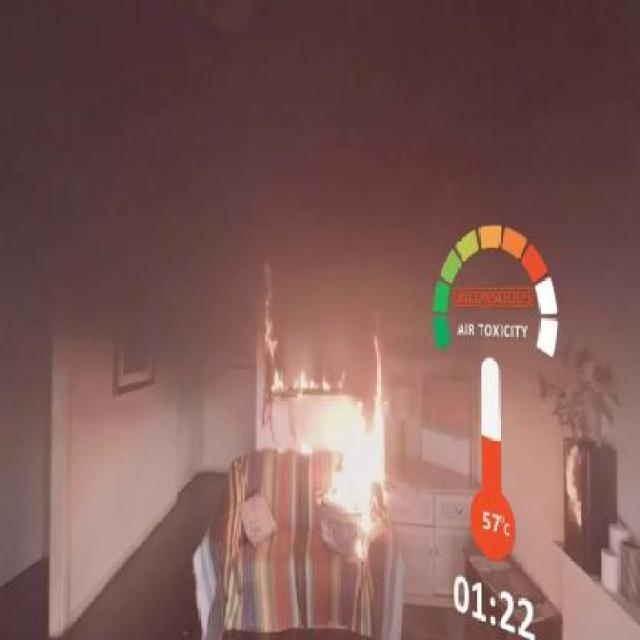fire: (233, 276, 399, 550)
